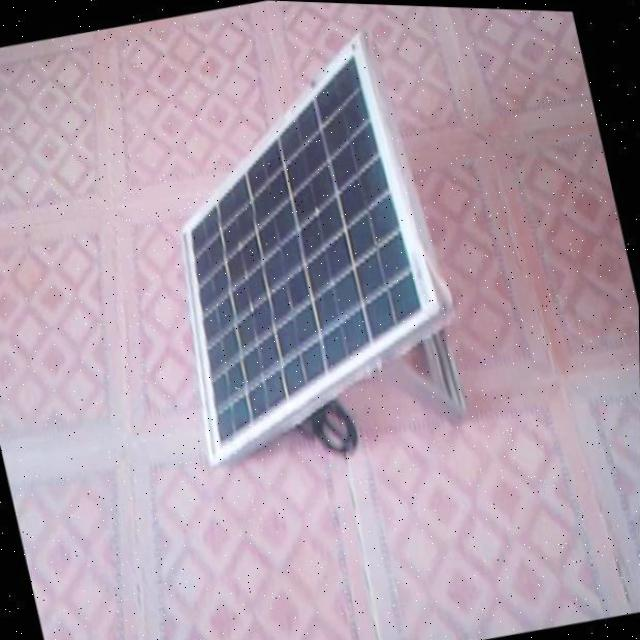Normal Solar Panel: (122, 17, 478, 473)
